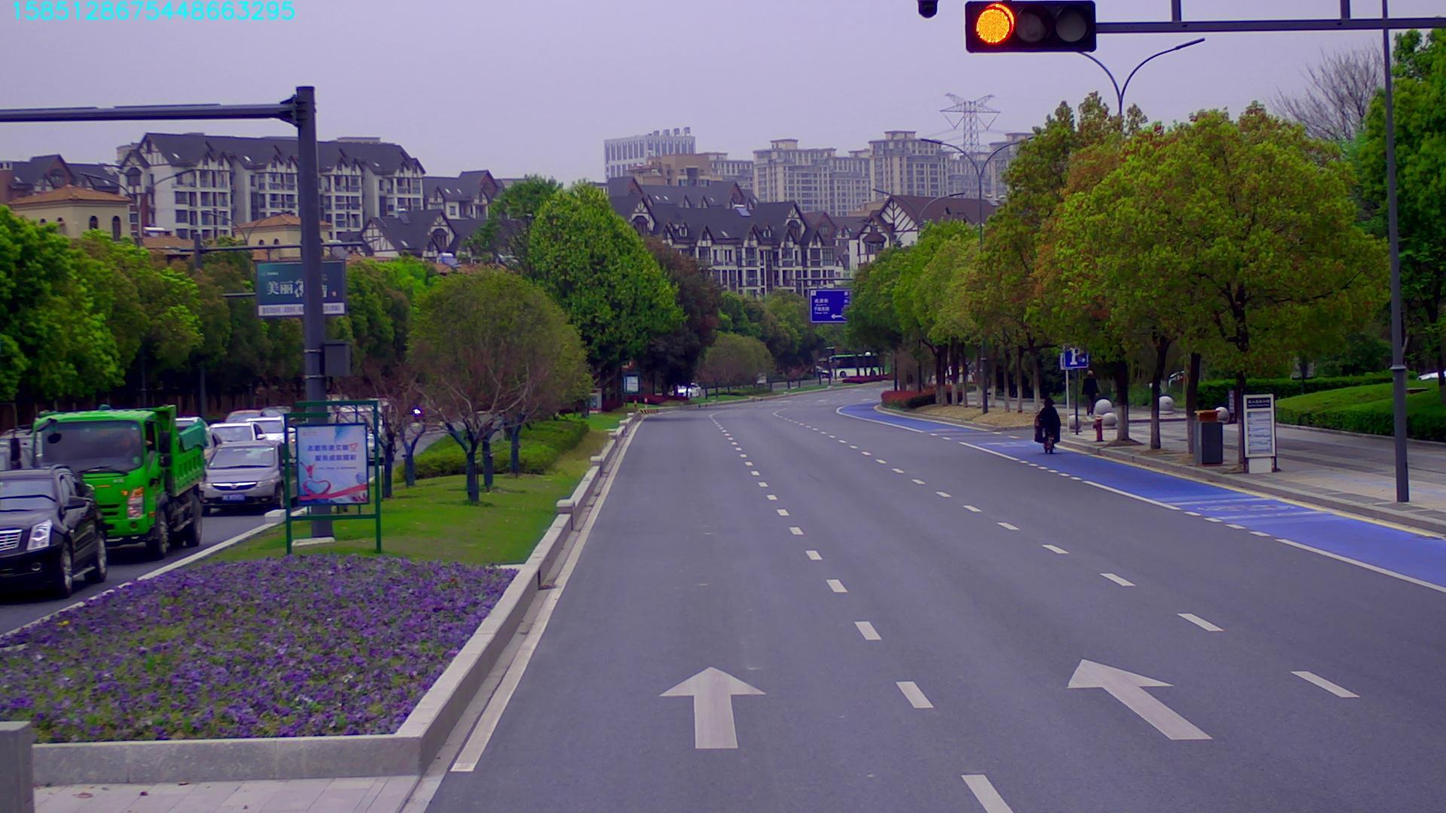red: (971, 2, 1078, 51)
